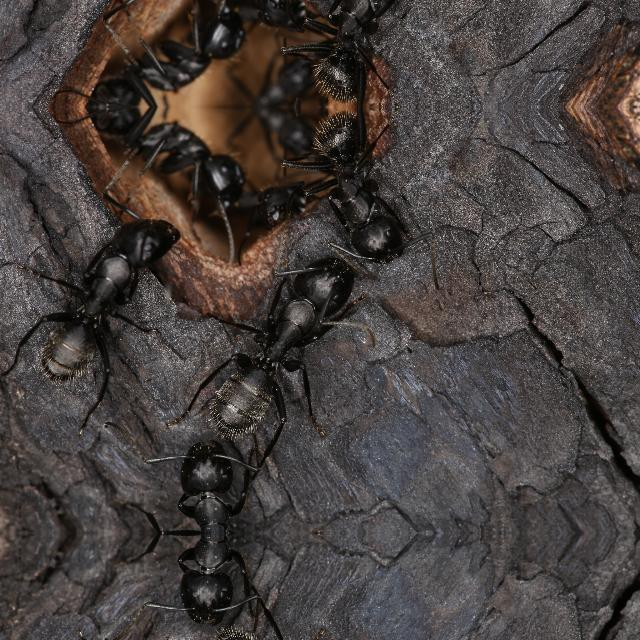Camponotus: (203, 252, 373, 438), (34, 208, 195, 400), (84, 106, 256, 217), (82, 0, 255, 106), (313, 106, 425, 268), (131, 426, 297, 532), (131, 533, 297, 639), (313, 0, 425, 106), (204, 105, 346, 158), (204, 54, 346, 106), (239, 178, 333, 235), (239, 0, 333, 34)
